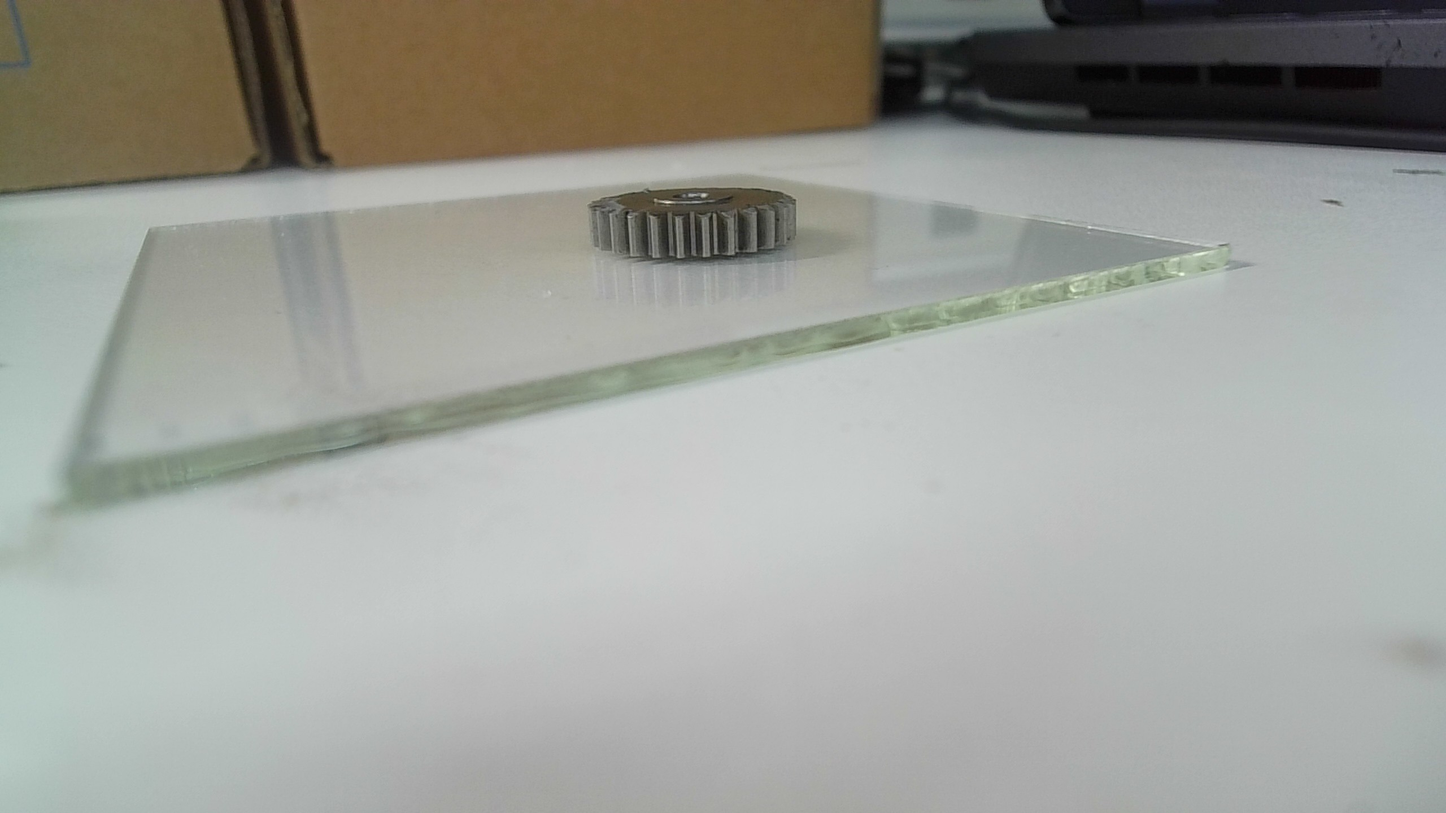gear: (586, 185, 801, 263)
